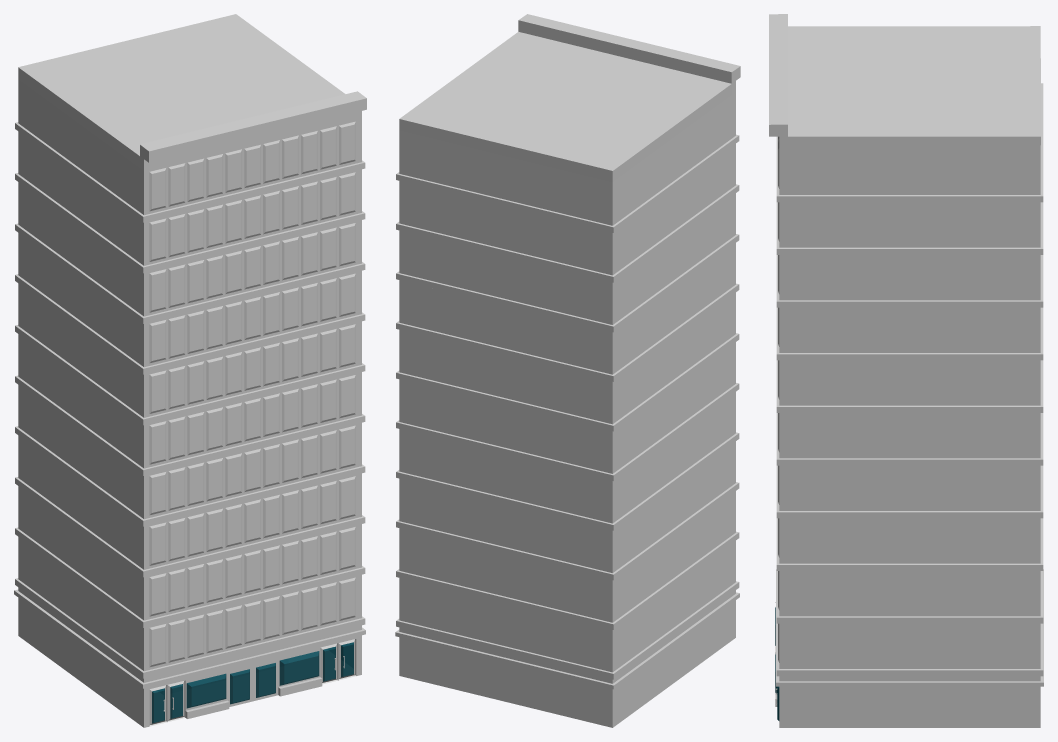
File: building_office_02_medium.fbx
The picture shows the model from 3 angles, left to right: view 1: azimuth 30°, elevation 25°; view 2: azimuth 150°, elevation 25°; view 3: azimuth 270°, elevation 25°; orthographic projection. The views are drawn at different scales.
Parts seen in each view (by area): view 1: building_office_02_medium, building_office_02_base_glass.002; view 2: building_office_02_medium; view 3: building_office_02_medium.
Part boxes in pixels (x1,y1,x2,y2): building_office_02_medium: [14, 14, 366, 727]; building_office_02_base_glass.002: [152, 642, 353, 723]; building_office_02_medium: [395, 14, 740, 727]; building_office_02_medium: [769, 14, 1043, 727].
Size of the model in its own units: 1844 by 4583 by 1893.
